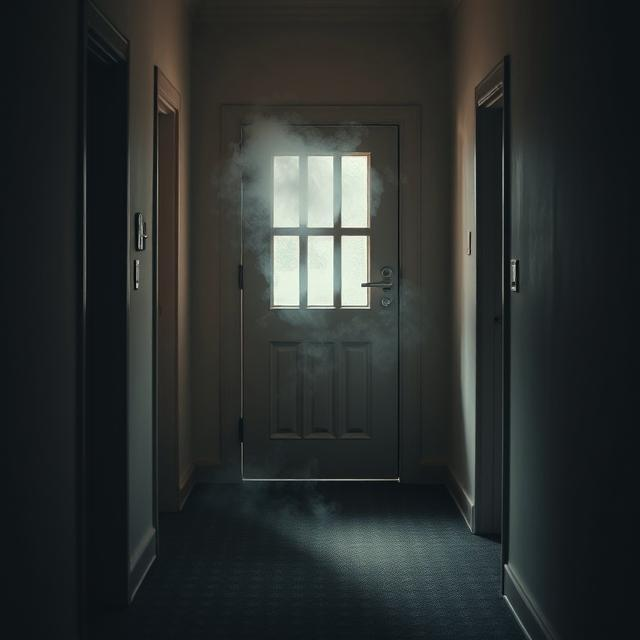smoke: (221, 102, 424, 380), (192, 453, 338, 532)
